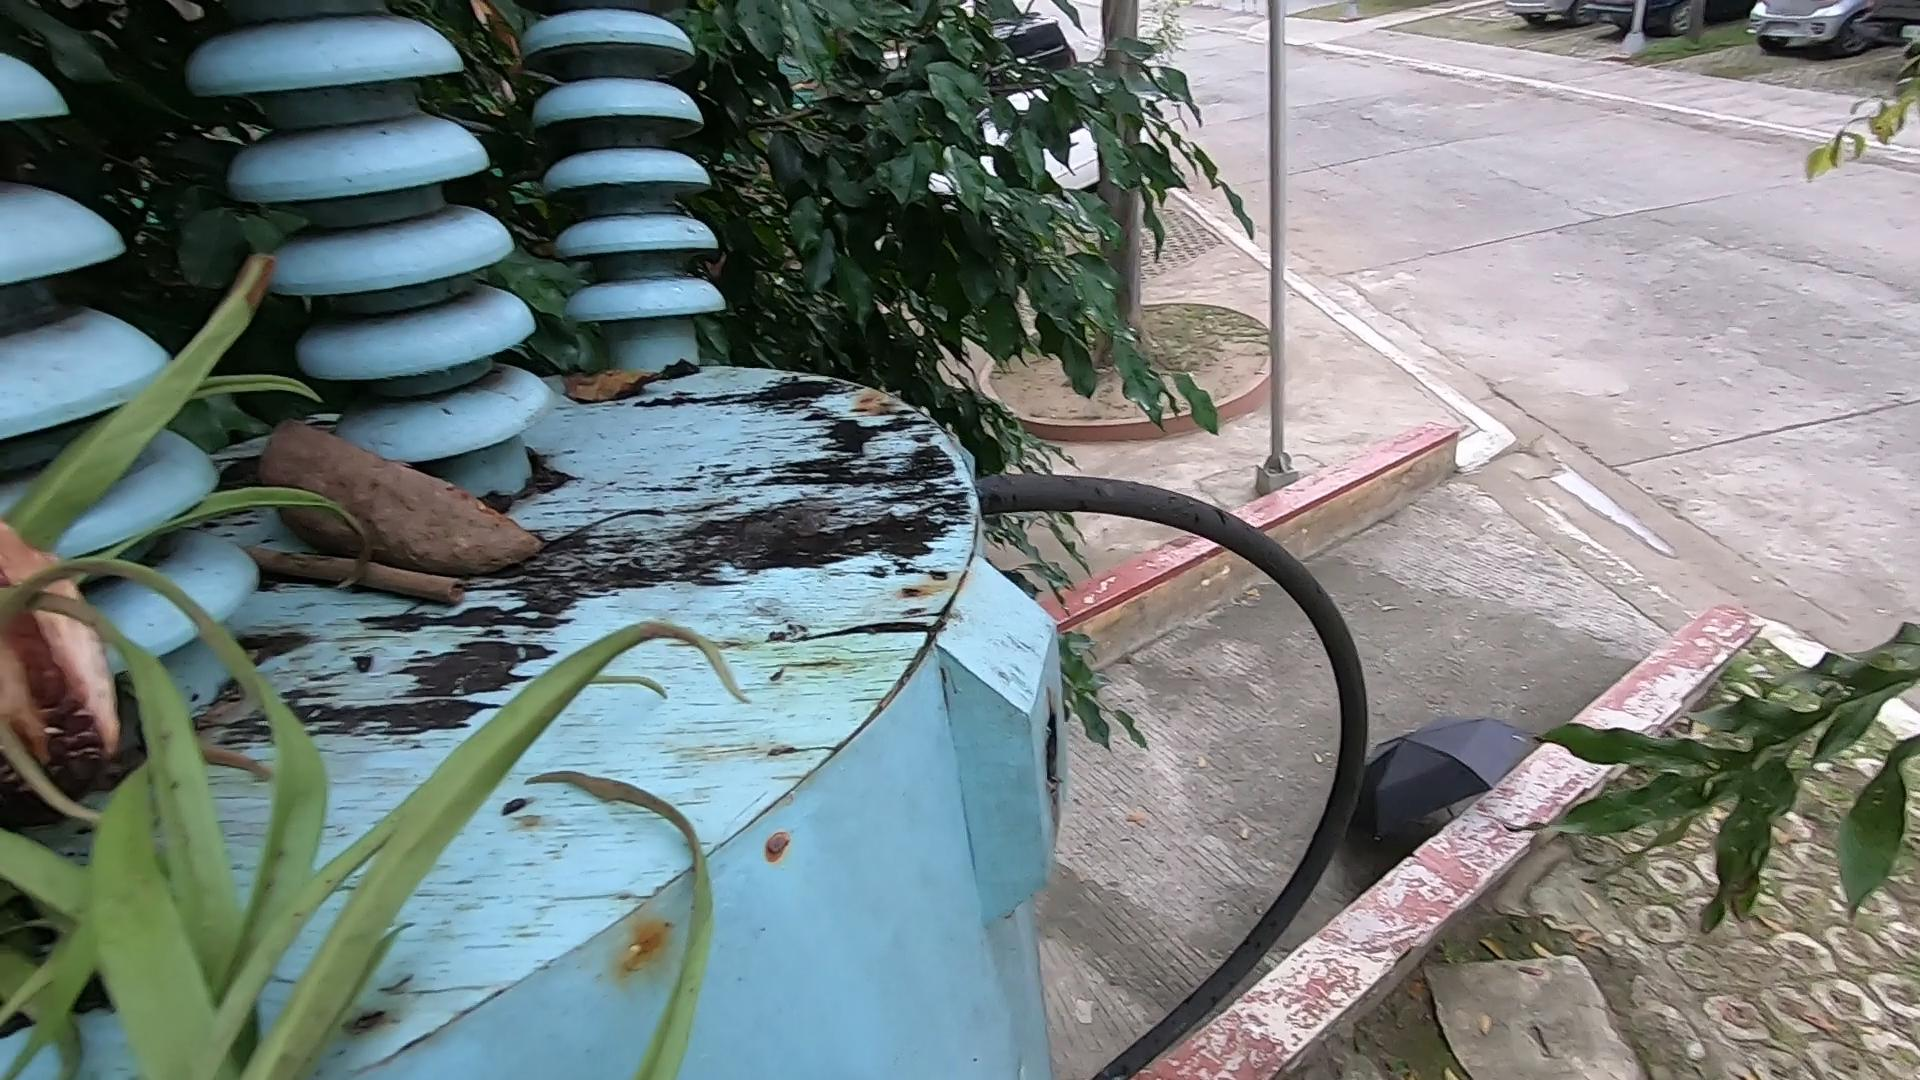leaf: (1, 429, 698, 1080), (560, 349, 717, 413)
mahogany fruit: (4, 524, 218, 832), (272, 417, 583, 613)
tree branch: (251, 534, 479, 609)
